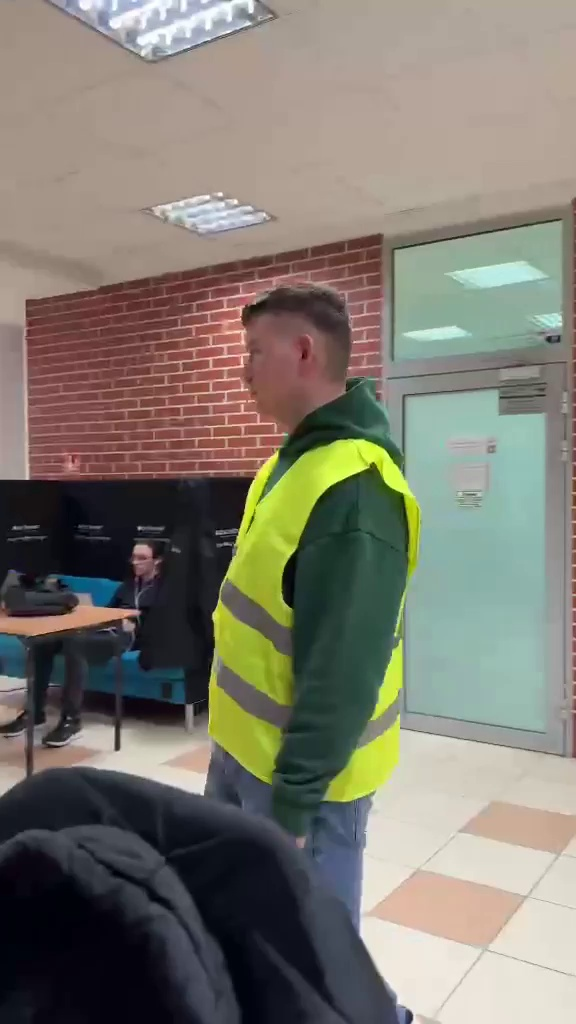no vest: (24, 536, 171, 755)
vest: (216, 272, 408, 992)
